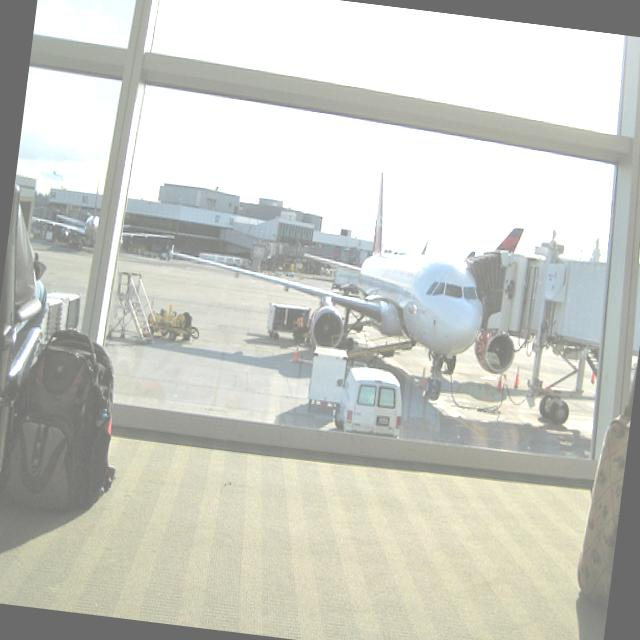Vehicle: (332, 363, 408, 441), (332, 361, 408, 436), (305, 346, 350, 416), (284, 268, 294, 278)
